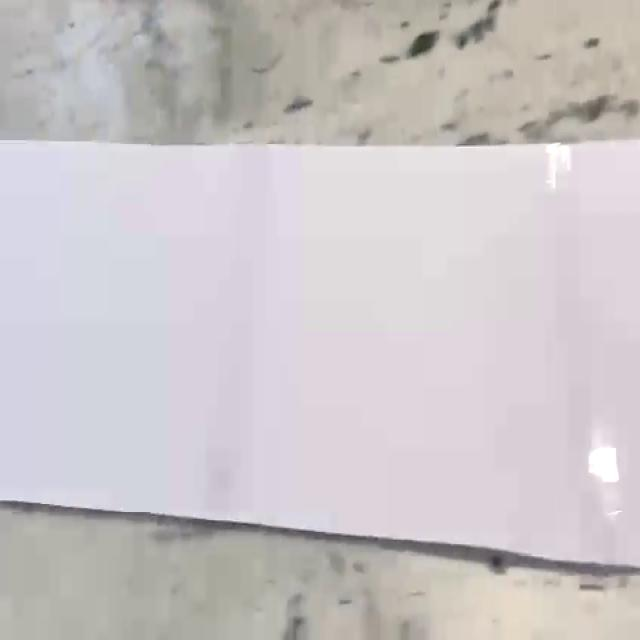road: (0, 140, 640, 567)
